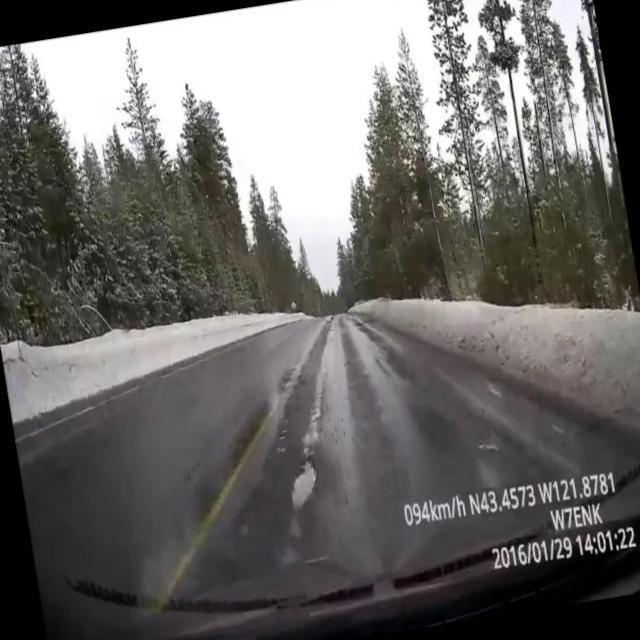Pothole: (290, 456, 318, 513)
